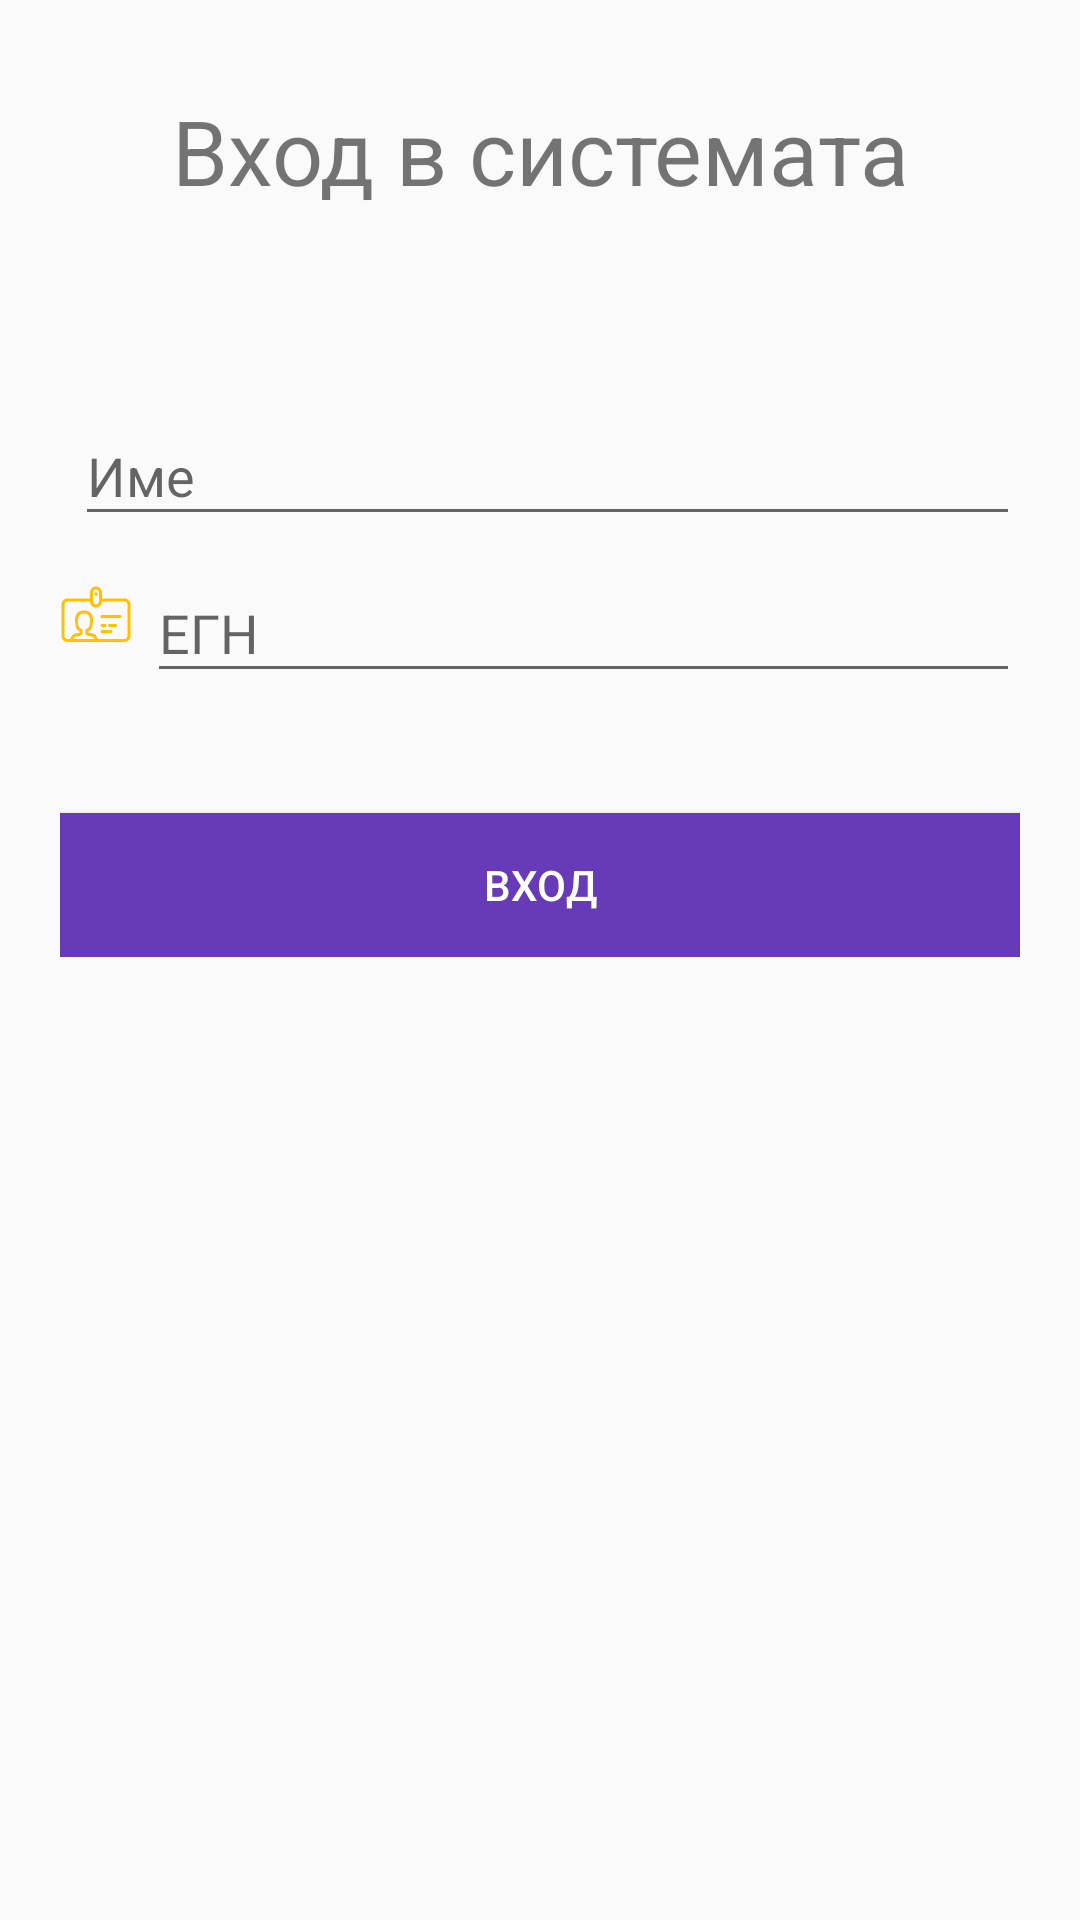

Icon bounding boxes for this 1080x1920 phone screenshot, format (x1, y1, x2, y2):
egn: (61, 586, 131, 642)
